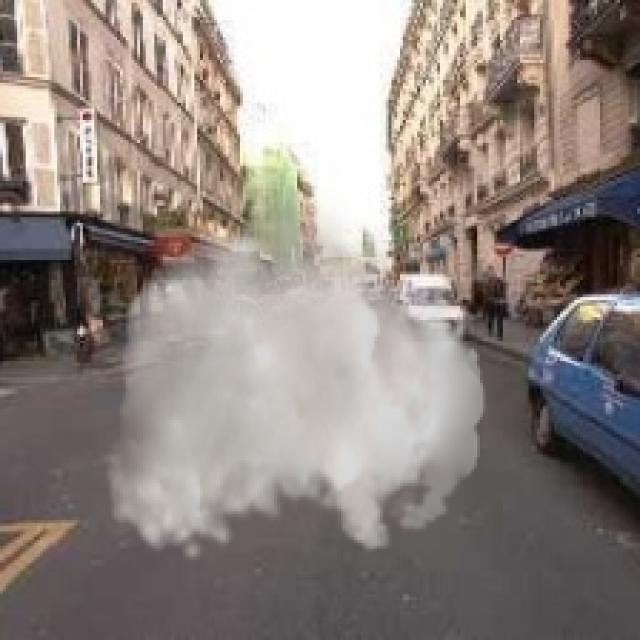smoke: (106, 177, 486, 563)
